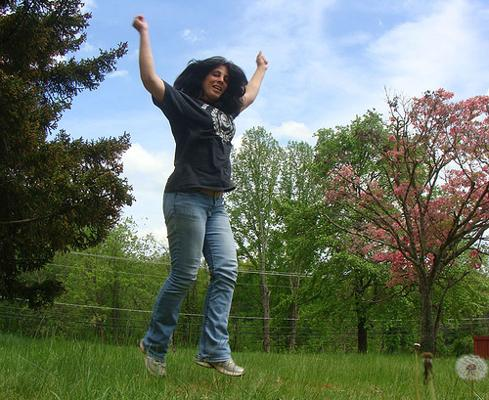person: (132, 13, 266, 380)
